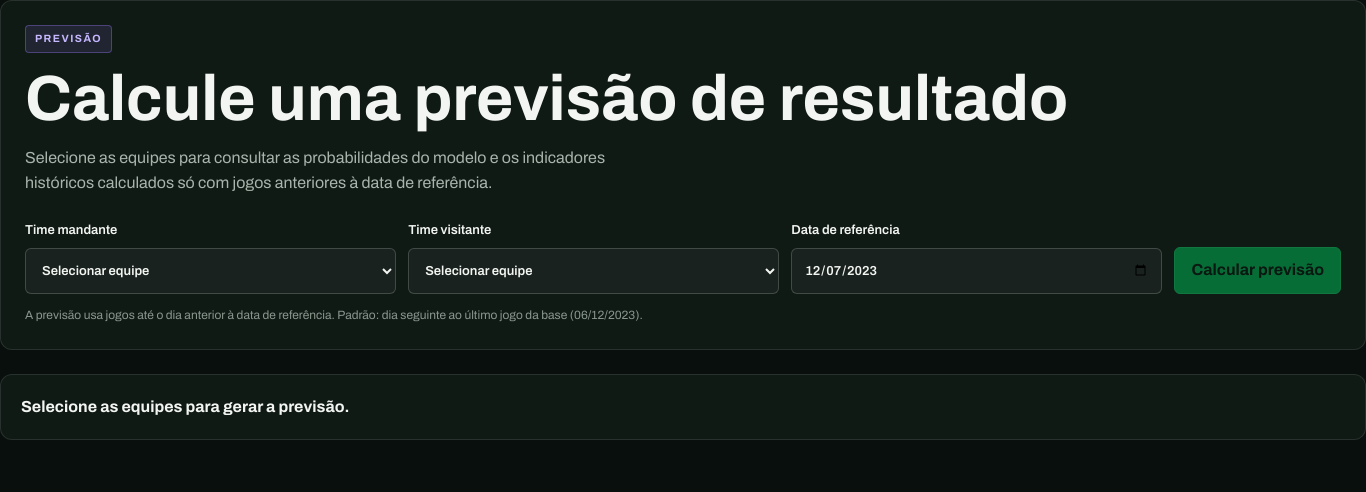
Test: Página de previsão › mostra o erro devolvido quando o modelo está ausente, sem inventar previsão
The image size is (1366, 492).
Step 1. Select "Flamengo" in the dropdown labelled "Time mandante" → (211,271), box [25,248,396,294]
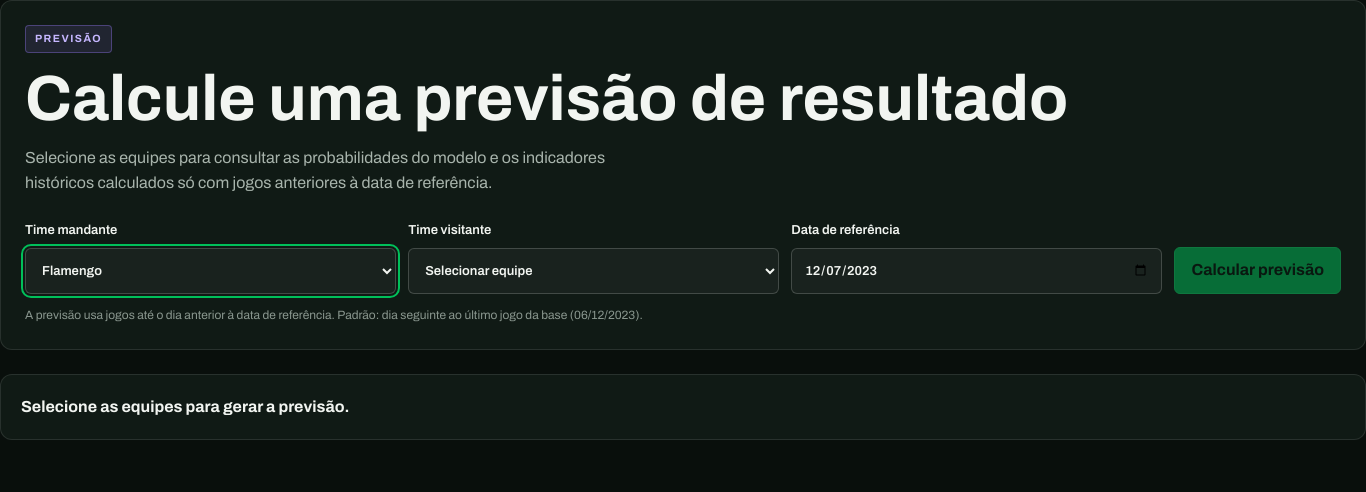
Step 2. Select "Palmeiras" in the dropdown labelled "Time visitante" → (594,271), box [408,248,779,294]
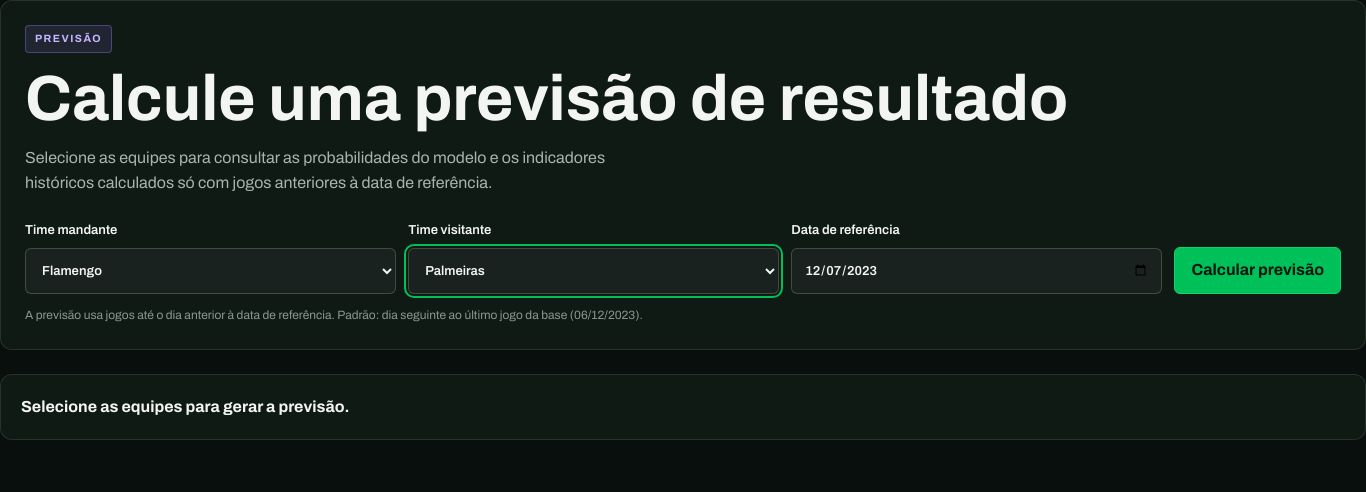
Step 3. Click the button "Calcular previsão" → (1258,271), box [1174,247,1341,294]
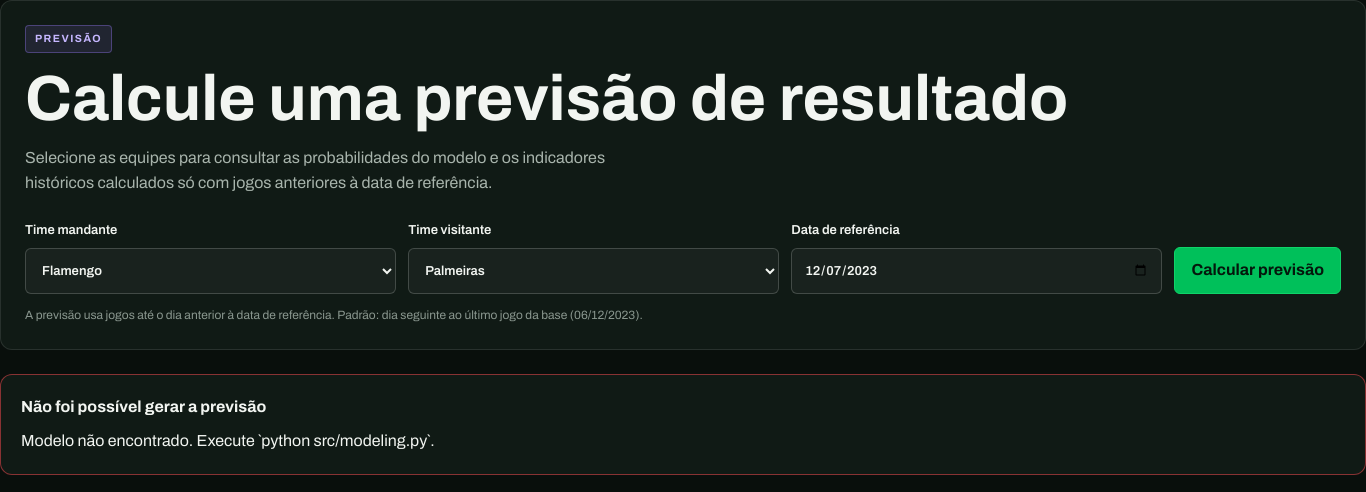
Expected: the message shows "Modelo não encontrado", [21,432,435,449]
